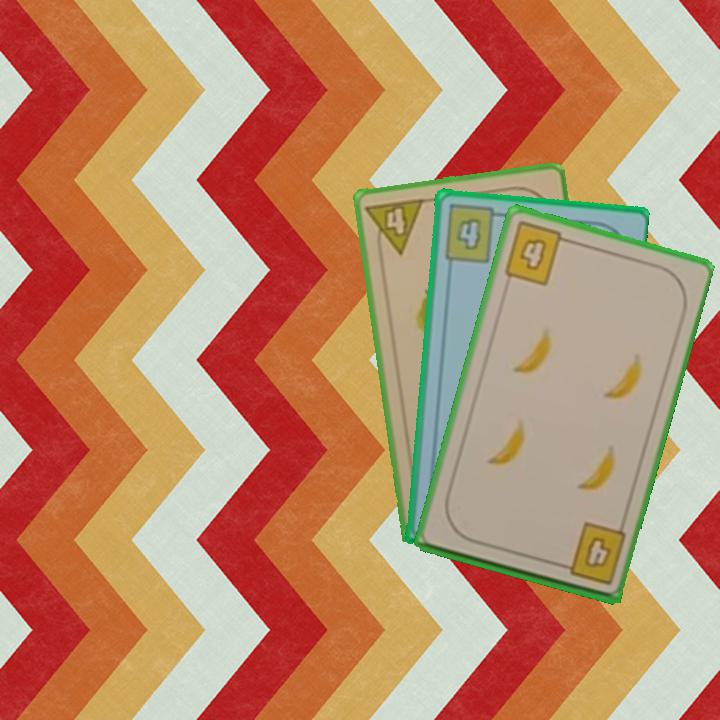4b: (500, 218, 575, 289), (553, 518, 629, 588), (441, 201, 507, 266)
4p: (362, 195, 427, 260)
